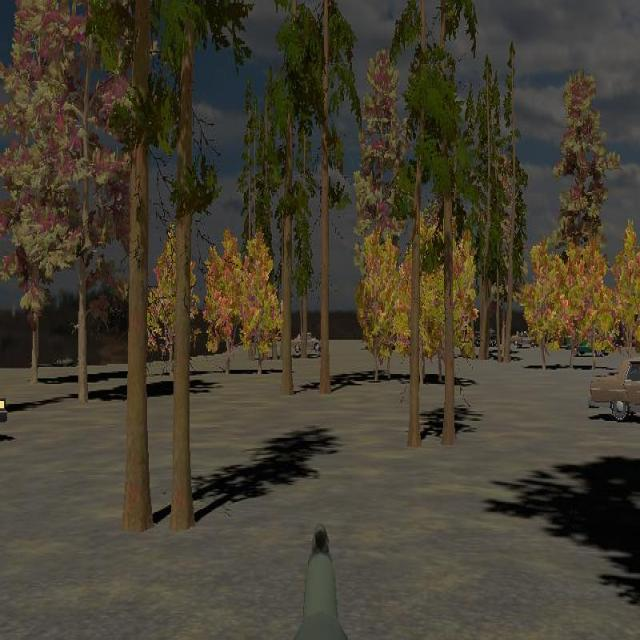car: (588, 357, 640, 426), (0, 380, 9, 430)
